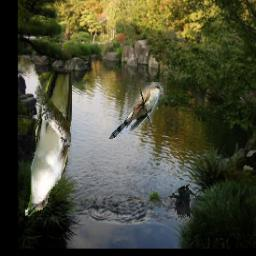Crow: (168, 179, 199, 224)
Cuckoo: (25, 73, 72, 217), (109, 82, 164, 139)
